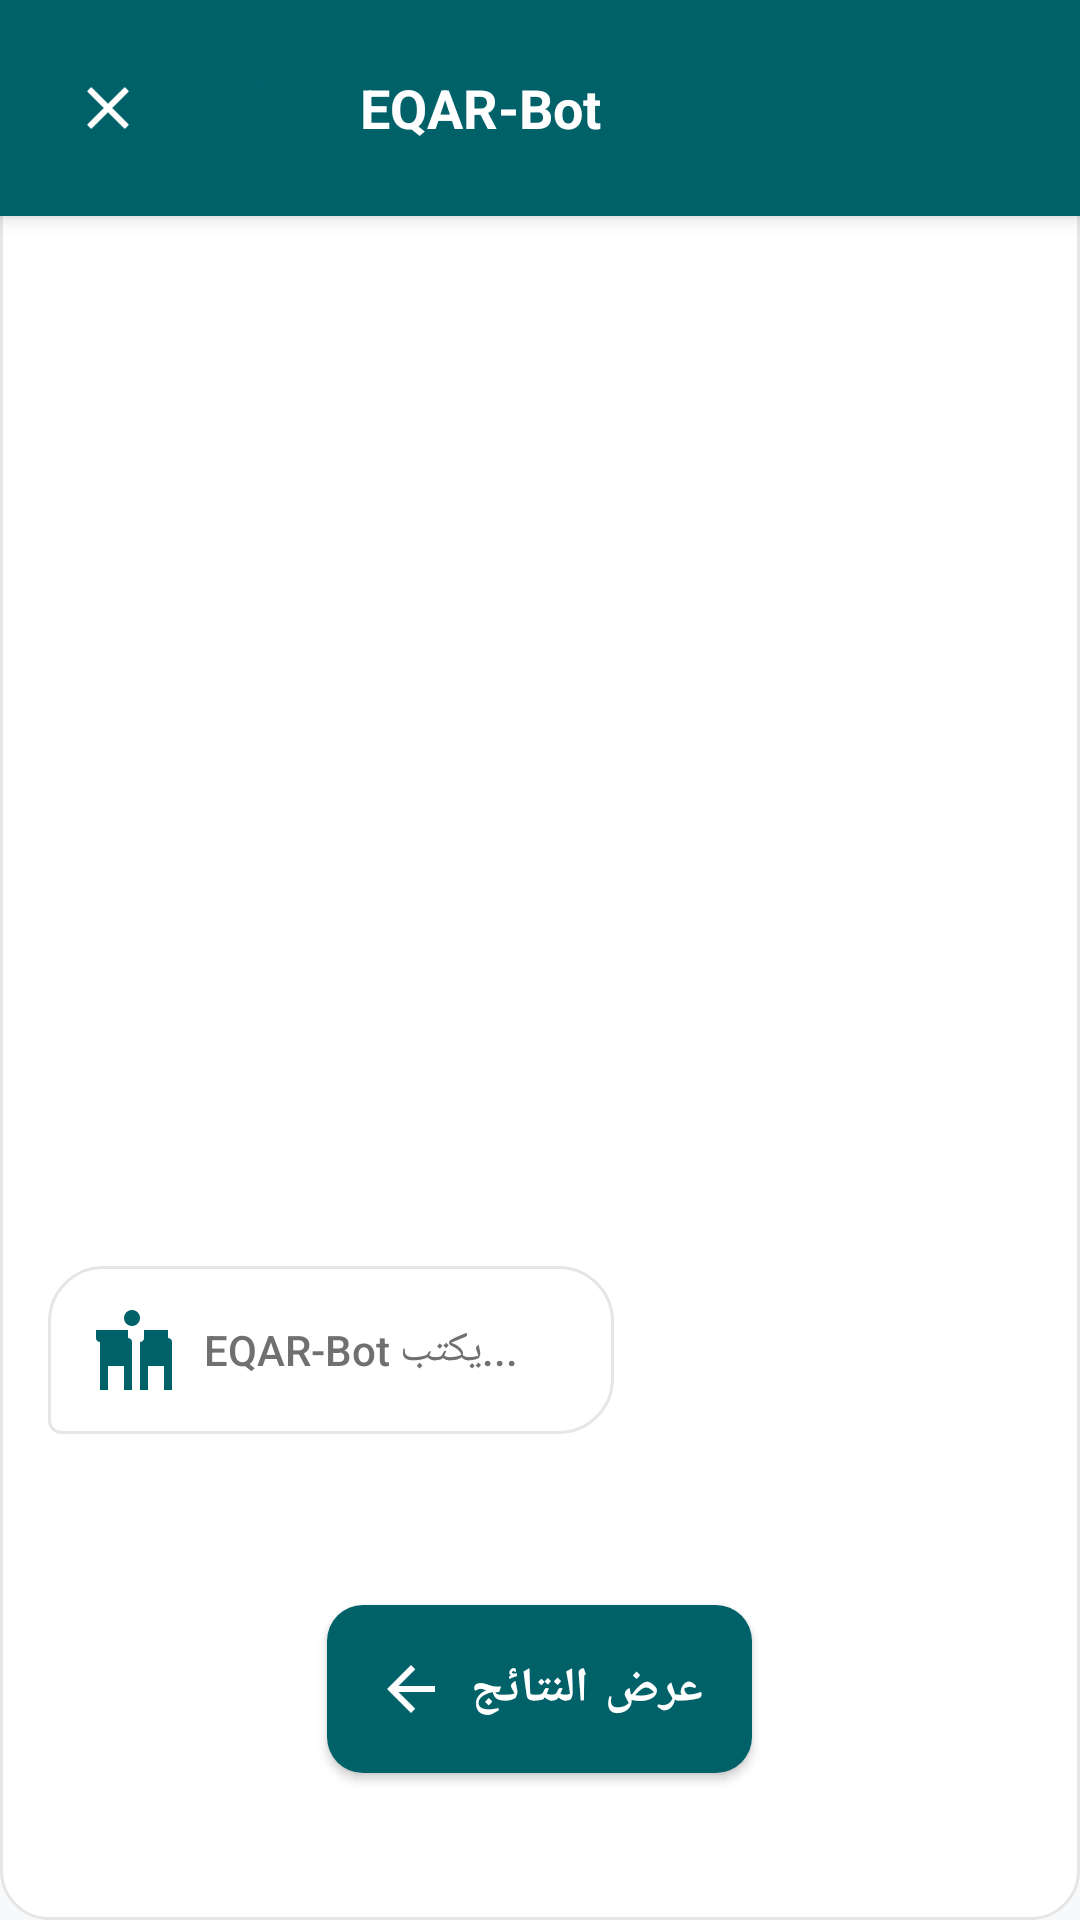

Icon bounding boxes for this 1080px×1920px phone screenshot, format (x1, y1, x2, y2):
close: (87, 87, 129, 129)
